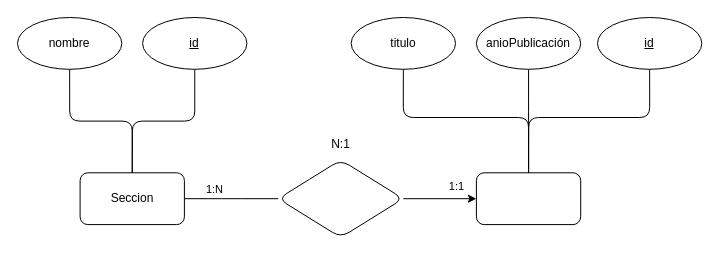
Some shapes in this 720 by 255 pixel diagram are drawn without their labels. Here are the shapes that lost their labels. From the top down, the centre of each, then its label:
At (340,198): "Posee".
At (528,198): "Libro".
